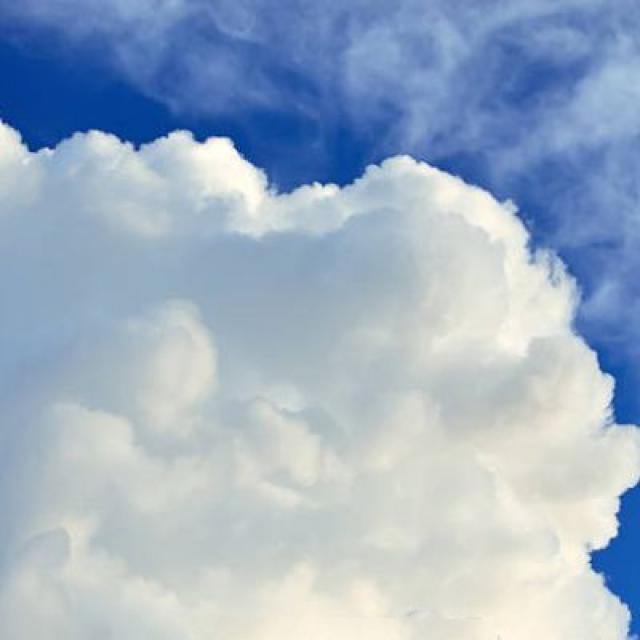Cu: (1, 105, 640, 640)
